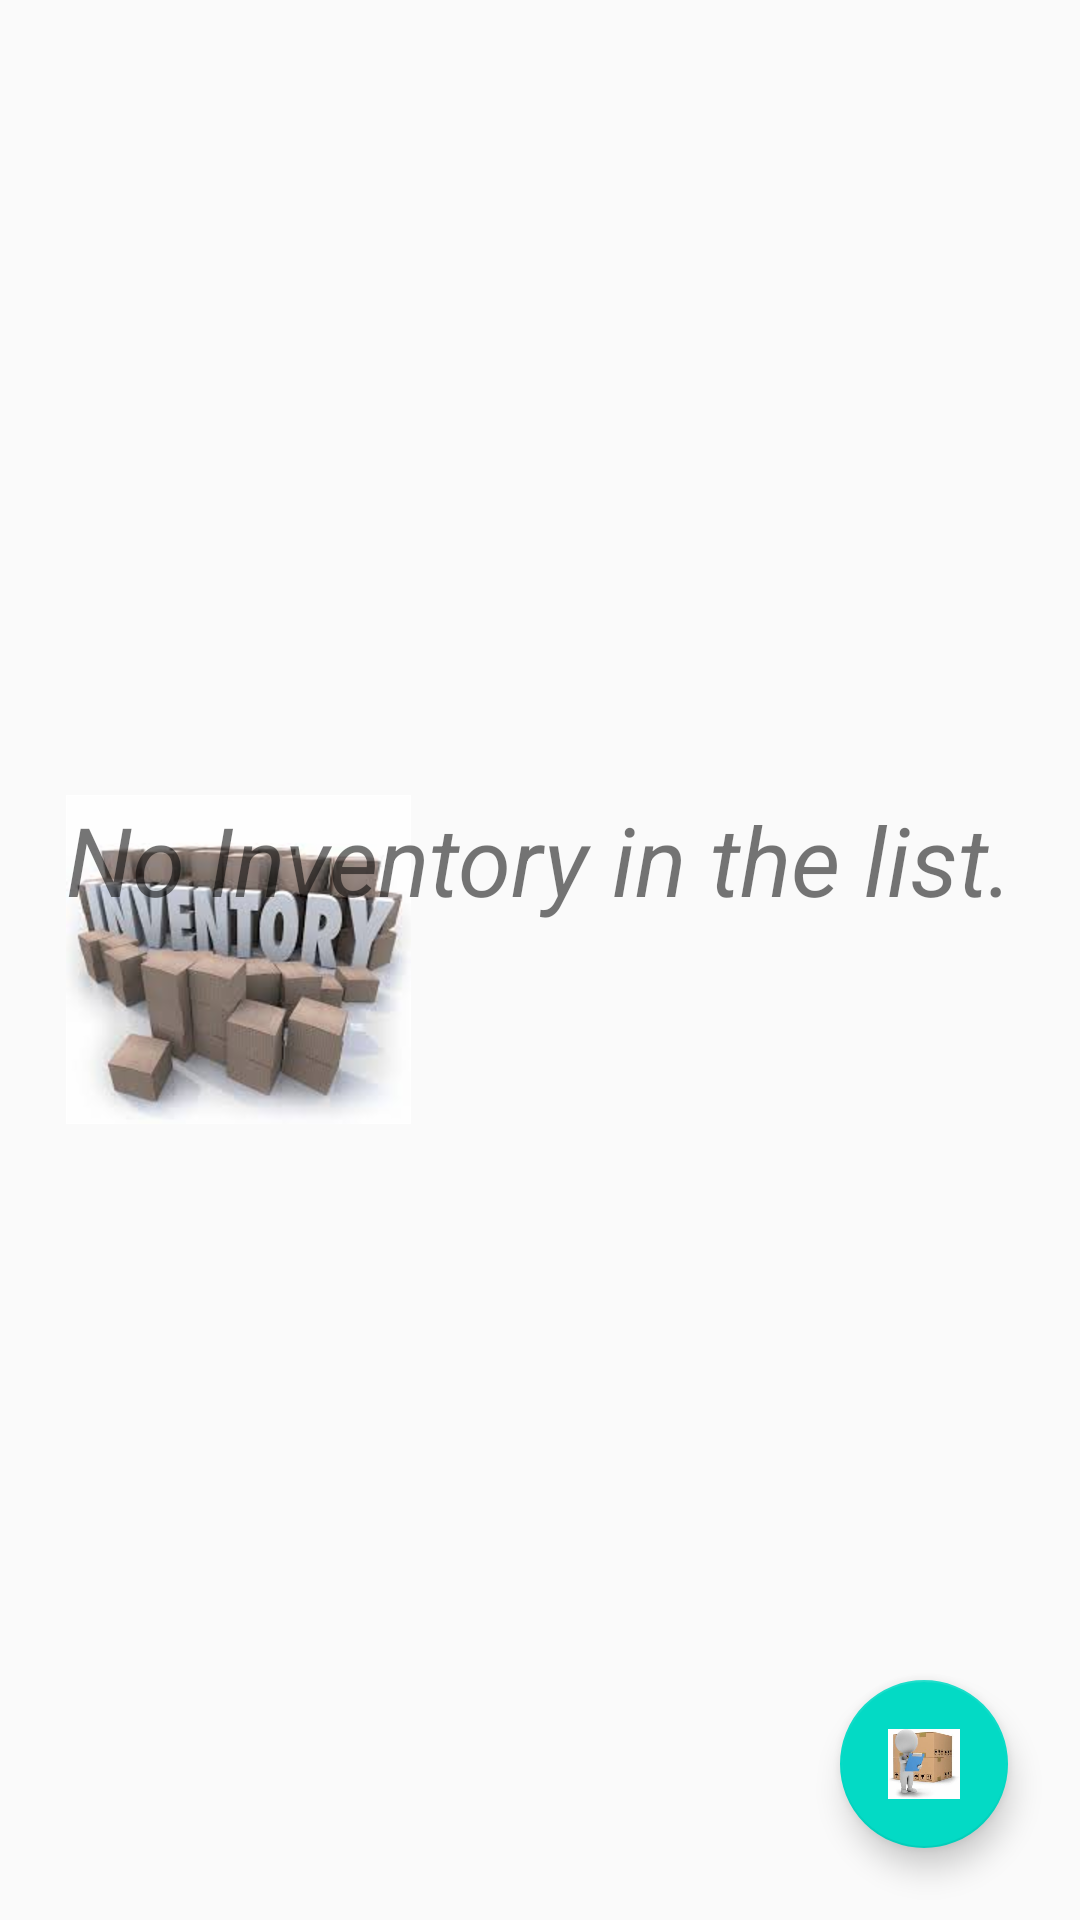

Icons on this 1080px×1920px Android screen, each with its box as (x1, y1, x2, y2):
inventory fab: (840, 1680, 1008, 1848)
